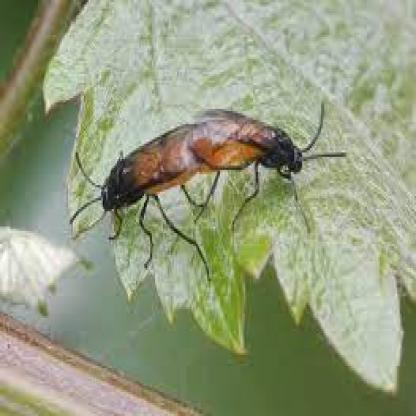sawfly: (63, 115, 222, 276), (187, 93, 347, 236)
